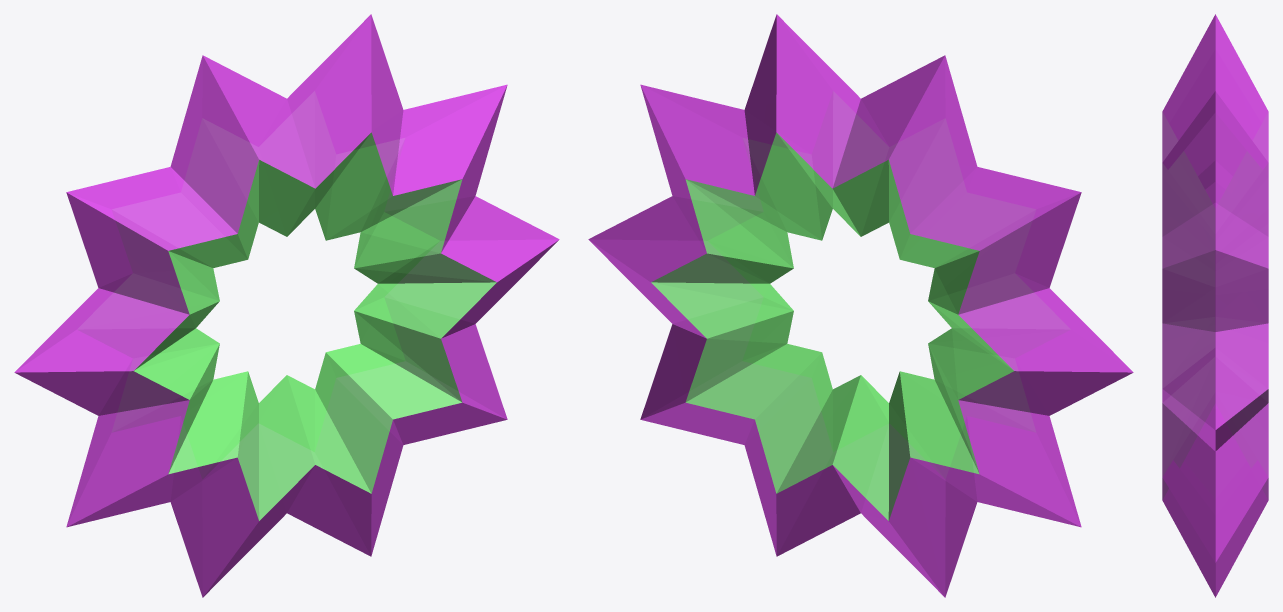
The model's file is Regular10TetragonalStarToroid.obj.
The picture shows the model from 3 angles, left to right: view 1: azimuth 30°, elevation 25°; view 2: azimuth 150°, elevation 25°; view 3: azimuth 270°, elevation 25°; orthographic projection. The views are drawn at different scales.
Size of the model in its own units: 3.88 by 3.69 by 0.7.
